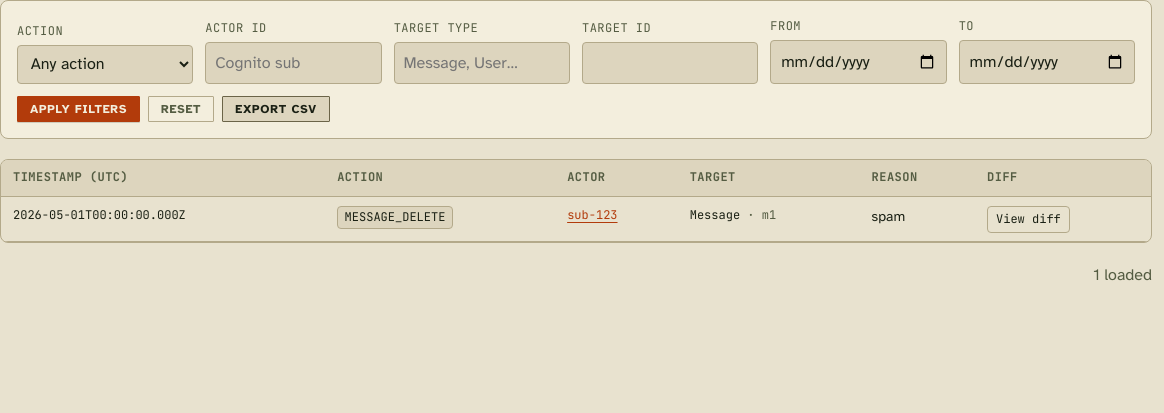
Test: AuditLogViewer › expands a row to show the before/after diff
The width and height of the screenshot is (1164, 413).
Click the button "View diff" at (1028, 219), box [987,206,1070,232]
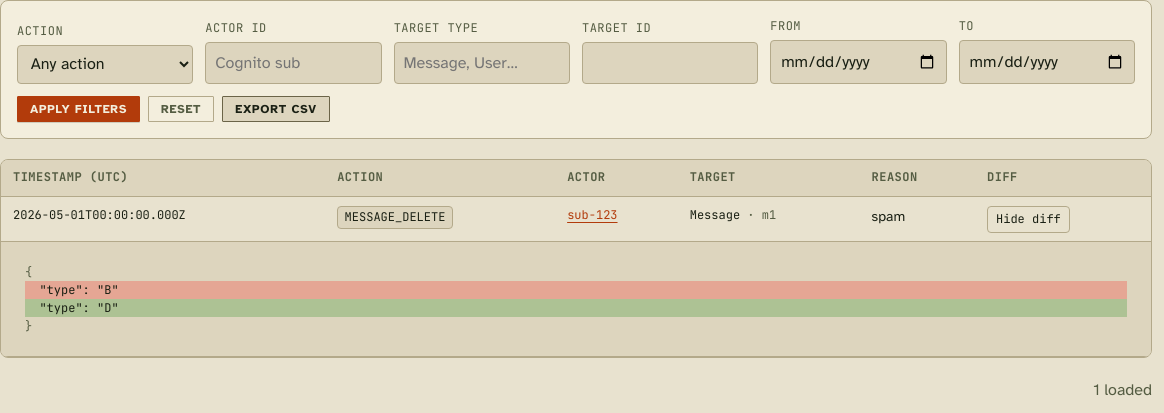
Result: the element named "Before / after diff" shows "\"B\"" at [25,282,119,298]
Result: the element named "Before / after diff" shows "\"D\"" at [25,300,119,316]
Result: the button "Hide diff" is shown at [987,206,1070,232]
